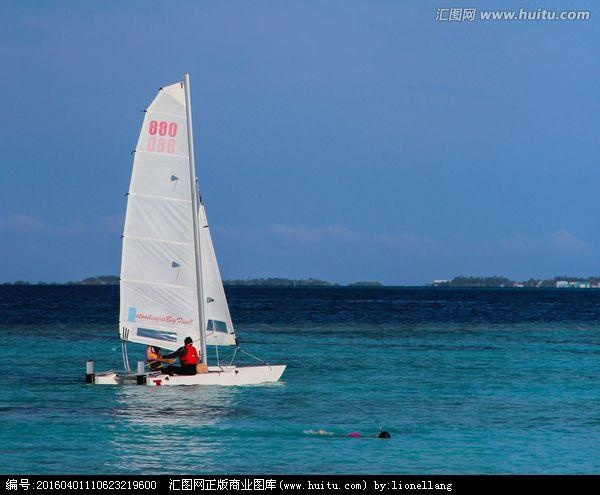fanchuan: (80, 73, 289, 387)
person: (154, 336, 204, 376)
